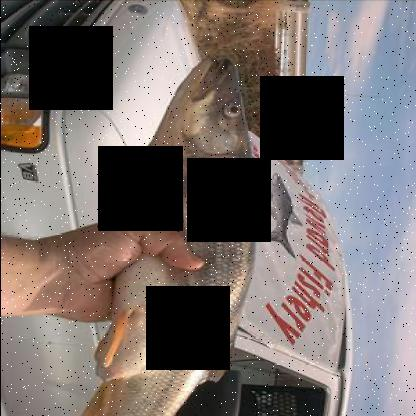fish: (77, 55, 261, 415)
